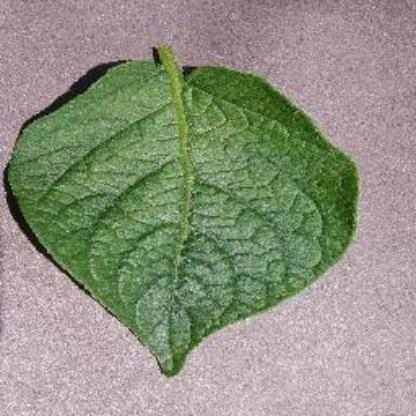Healthy-plant: (2, 16, 374, 392)
